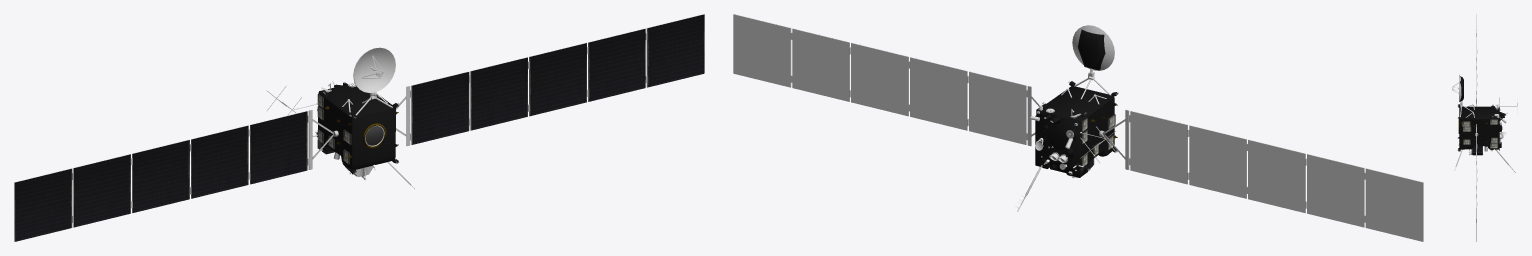
The model's file is rosetta.glb.
3 renders of one model, left to right at view 1: azimuth 30°, elevation 25°; view 2: azimuth 150°, elevation 25°; view 3: azimuth 270°, elevation 25°, orthographic. The views are drawn at different scales.
Visible parts, largest first — view 1: panels_02, panels_01, black_krinkle, dish, vents, foil_silver; view 2: panels_02, panels_01, black_krinkle, dish, vents; view 3: black_krinkle, dish, vents, panels_01, panels_02, vents.004, foil_gold.
Boxes of the visible parts, x1,y1,x2,y2 form: panels_02: [14, 109, 338, 241]; panels_01: [396, 14, 704, 146]; black_krinkle: [316, 82, 398, 174]; dish: [266, 47, 415, 188]; vents: [317, 94, 351, 164]; foil_silver: [318, 126, 383, 153]; panels_02: [1099, 109, 1423, 241]; panels_01: [733, 14, 1039, 146]; black_krinkle: [1035, 29, 1117, 177]; dish: [1015, 25, 1118, 211]; vents: [1081, 114, 1115, 166]; black_krinkle: [1458, 76, 1505, 150]; dish: [1452, 74, 1517, 172]; vents: [1462, 119, 1498, 148]; panels_01: [1475, 124, 1478, 241]; panels_02: [1476, 14, 1477, 106]; vents.004: [1472, 146, 1482, 155]; foil_gold: [1458, 119, 1487, 142].
Size of the model in its own units: 31.96 by 6.92 by 4.55.
10 materials, 6 textured.
